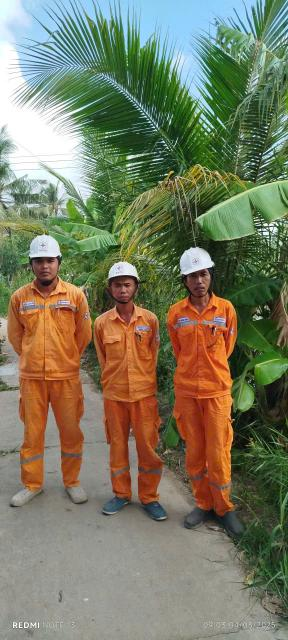helmet: (173, 238, 217, 274), (106, 253, 150, 286), (28, 231, 70, 265)
shoes: (3, 468, 48, 522), (52, 471, 93, 511), (138, 492, 179, 528), (181, 490, 217, 530), (101, 483, 138, 519), (217, 503, 254, 539)
